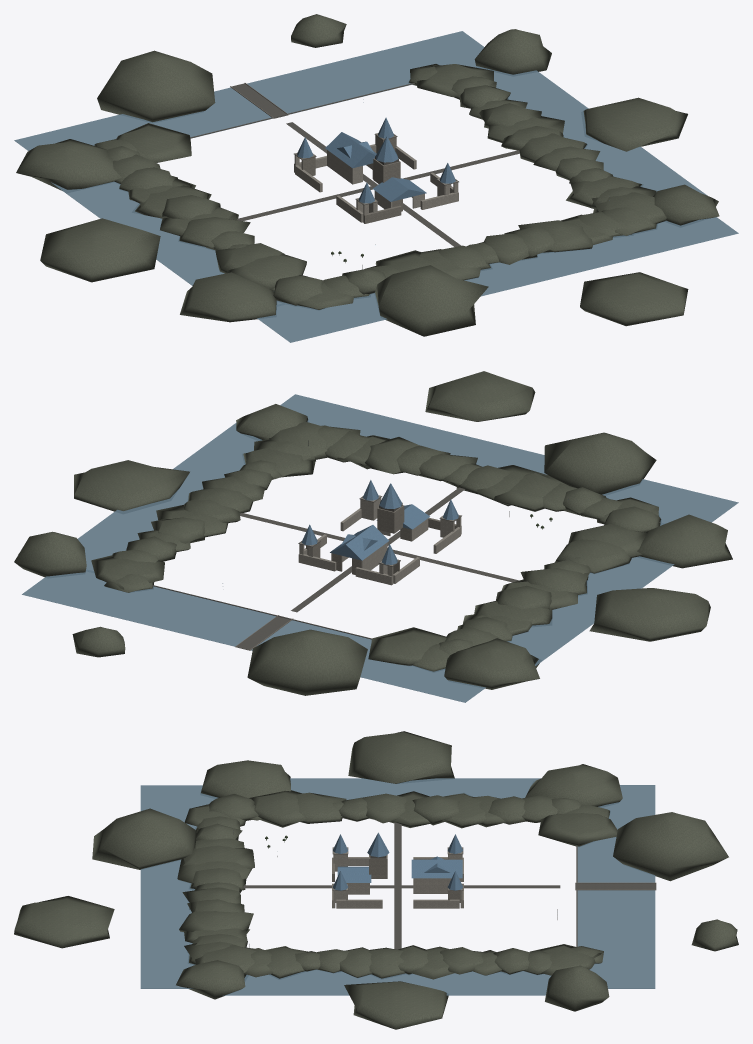
Rendered from takadai-lod2.glb.
The picture shows the model from 3 angles, top to bottom: view 1: azimuth 30°, elevation 25°; view 2: azimuth 150°, elevation 25°; view 3: azimuth 270°, elevation 25°; orthographic projection. The views are drawn at different scales.
Visible parts, largest first — view 1: HB_takadai_LOD2_terrain, HB_takadai_LOD2_water, HB_takadai_LOD2_accent, HB_takadai_LOD2_wall, HB_takadai_LOD2_road, HB_takadai_LOD2_wall_alt, HB_takadai_LOD2_trim; view 2: HB_takadai_LOD2_terrain, HB_takadai_LOD2_water, HB_takadai_LOD2_wall, HB_takadai_LOD2_accent, HB_takadai_LOD2_road, HB_takadai_LOD2_wall_alt, HB_takadai_LOD2_trim; view 3: HB_takadai_LOD2_terrain, HB_takadai_LOD2_water, HB_takadai_LOD2_wall, HB_takadai_LOD2_accent, HB_takadai_LOD2_road, HB_takadai_LOD2_wall_alt.
Boxes of the visible parts, left/top/right/bottom form: HB_takadai_LOD2_terrain: left=16, top=14, right=719, bottom=336; HB_takadai_LOD2_water: left=14, top=31, right=738, bottom=342; HB_takadai_LOD2_accent: left=297, top=99, right=609, bottom=203; HB_takadai_LOD2_wall: left=294, top=133, right=458, bottom=223; HB_takadai_LOD2_road: left=231, top=83, right=519, bottom=246; HB_takadai_LOD2_wall_alt: left=230, top=83, right=402, bottom=223; HB_takadai_LOD2_trim: left=190, top=83, right=458, bottom=269; HB_takadai_LOD2_terrain: left=14, top=371, right=732, bottom=695; HB_takadai_LOD2_water: left=22, top=394, right=738, bottom=702; HB_takadai_LOD2_wall: left=298, top=495, right=461, bottom=585; HB_takadai_LOD2_accent: left=222, top=480, right=568, bottom=583; HB_takadai_LOD2_road: left=236, top=487, right=518, bottom=650; HB_takadai_LOD2_wall_alt: left=235, top=505, right=461, bottom=650; HB_takadai_LOD2_trim: left=152, top=440, right=568, bottom=639; HB_takadai_LOD2_terrain: left=14, top=731, right=738, bottom=1029; HB_takadai_LOD2_water: left=140, top=778, right=655, bottom=995; HB_takadai_LOD2_wall: left=332, top=847, right=463, bottom=908; HB_takadai_LOD2_accent: left=332, top=832, right=462, bottom=890; HB_takadai_LOD2_road: left=243, top=822, right=656, bottom=949; HB_takadai_LOD2_wall_alt: left=332, top=847, right=656, bottom=902.
Size of the model in its own units: 632 by 56.5 by 662.
9 materials, 7 textured.
